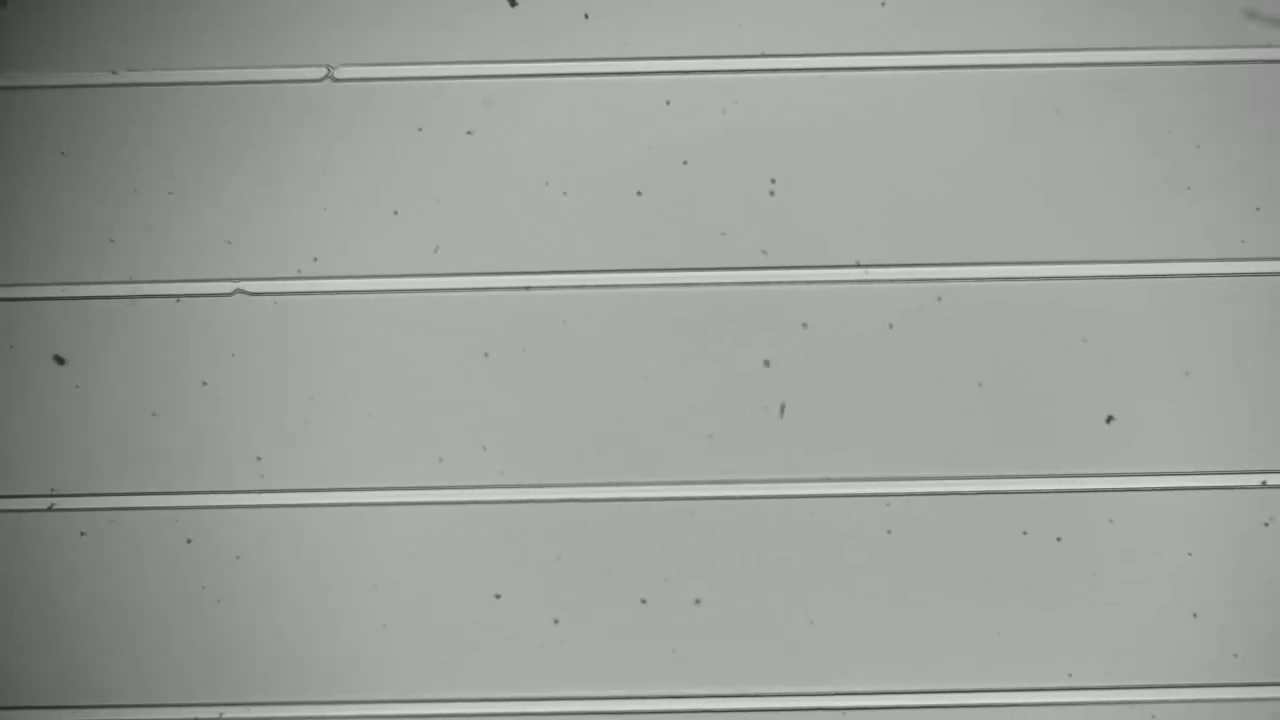edge_bite: (220, 270, 259, 300)
open: (313, 57, 346, 86)
stains_enbedded: (36, 480, 65, 519)
